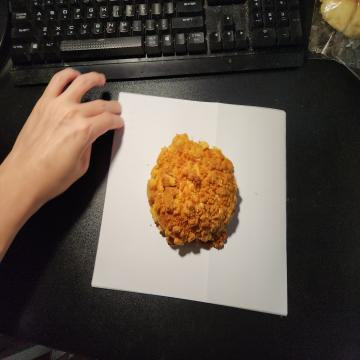soboru_bread: (146, 133, 236, 251)
